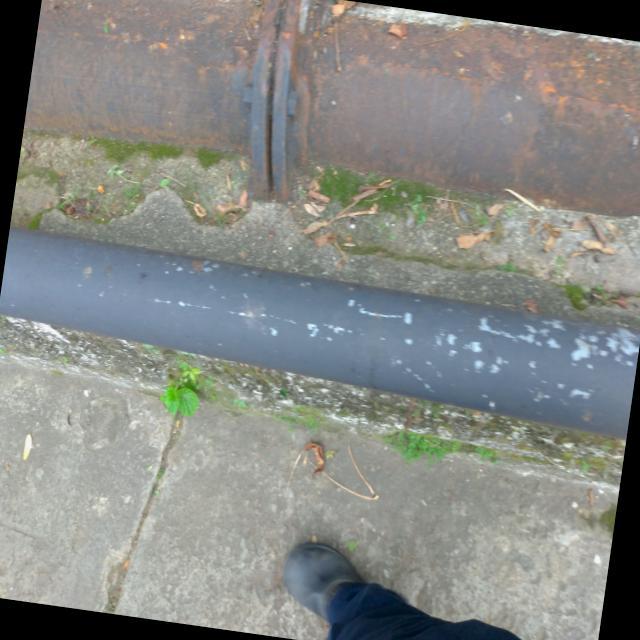gas: (18, 0, 640, 256), (0, 227, 640, 445)
